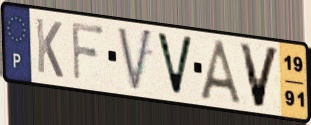A: (198, 37, 247, 108)
F: (70, 20, 106, 83)
K: (34, 15, 65, 81)
V: (237, 41, 282, 111), (154, 30, 196, 99), (115, 24, 154, 95)
